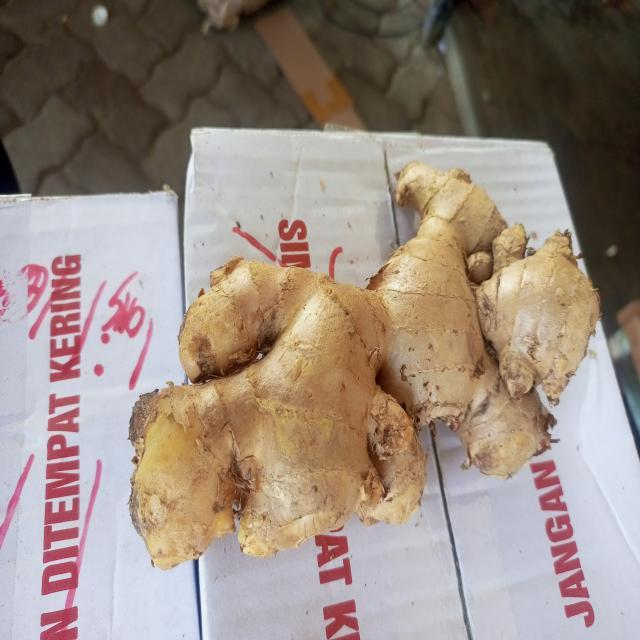ginger: (135, 176, 602, 546)
